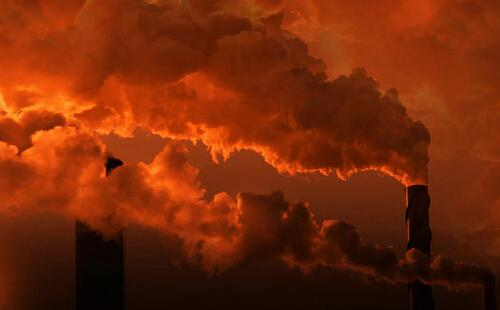dust: (243, 66, 439, 202), (301, 219, 497, 292)
